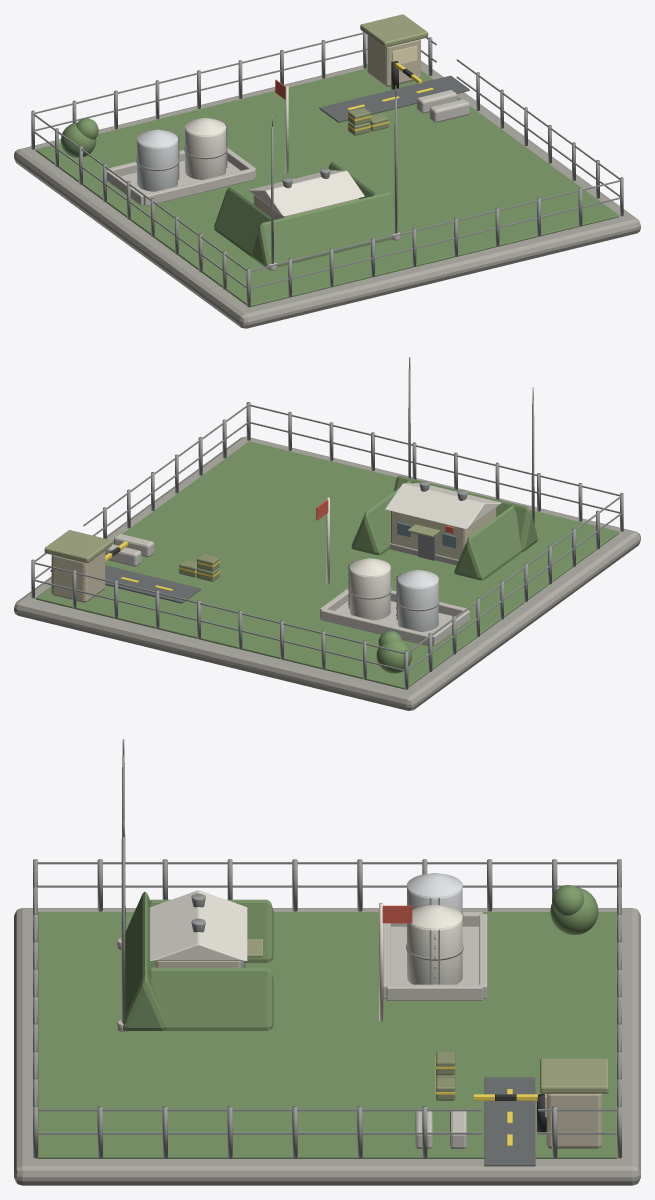
File: tnt_3.glb
3 renders of one model, top to bottom at view 1: azimuth 30°, elevation 25°; view 2: azimuth 150°, elevation 25°; view 3: azimuth 270°, elevation 25°, orthographic. The views are drawn at different scales.
Parts seen in each view (by area): view 1: Cube.001, Cube, prism, prism.003, Cube.002, prism.001, Cylinder.005, Cylinder.007, Cube.006, Cube.007, Cube.023, Cube.050 (+12 smaller); view 2: Cube.001, Cube, prism.003, prism.001, Cube.006, Cube.014, Cylinder.007, Cylinder.005, prism.002, Cube.002, Cube.007, Cube.022 (+13 smaller); view 3: Cube.001, Cube, prism.002, prism.003, Cube.002, prism, Cylinder.007, Cube.006, Cube.007, Cube.021, Cube.024, Cube.056 (+14 smaller).
Boxes of the visible parts, x1,y1,x2,y2 form: Cube.001: (35,68,619,307); Cube: (14,60,640,328); prism: (251,192,400,268); prism.003: (248,170,364,216); Cube.002: (319,75,469,122); prism.001: (214,187,273,257); Cylinder.005: (137,141,177,191); Cylinder.007: (185,129,225,179); Cube.006: (367,35,420,86); Cube.007: (360,14,428,47); Cube.023: (143,168,254,206); Cube.050: (250,197,620,288); Cube.001: (35,441,619,689); Cube: (14,436,640,710); prism.003: (385,483,501,528); prism.001: (454,505,522,580); Cube.006: (51,551,105,602); Cube.014: (391,507,496,559); Cylinder.007: (349,569,390,620); Cylinder.005: (397,581,438,631); prism.002: (351,480,411,555); Cube.002: (50,565,200,603); Cube.007: (44,530,112,563); Cube.022: (321,609,428,645); Cube.001: (37,912,617,1158); Cube: (14,908,640,1185); prism.002: (147,967,273,1030); prism.003: (150,890,247,960); Cube.002: (484,1077,535,1166); prism: (122,891,166,1030); Cylinder.007: (407,920,462,984); Cube.006: (546,1093,602,1148); Cube.007: (540,1058,608,1093); Cube.021: (391,926,478,984); Cube.024: (386,984,483,1000); Cube.056: (37,862,617,864).
Size of the model in its own units: 2.92 by 1.18 by 2.92.
